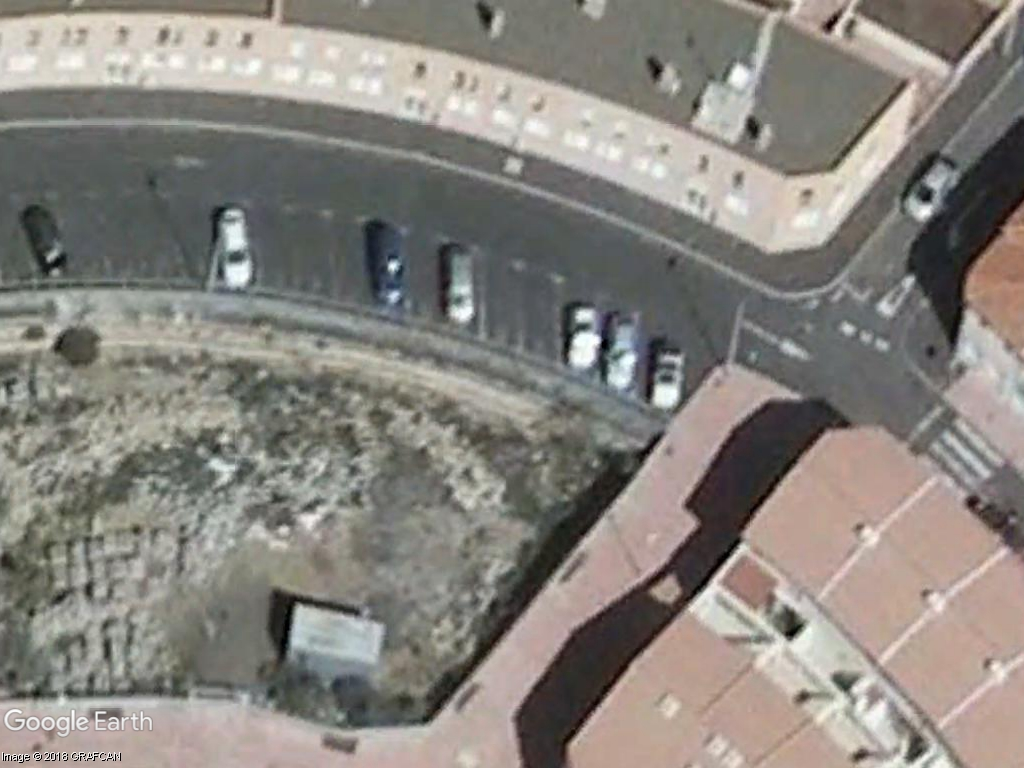car: (899, 143, 963, 228), (361, 210, 412, 312), (213, 202, 259, 297), (438, 233, 480, 327)
other: (604, 304, 643, 400), (561, 294, 603, 375), (646, 333, 685, 416)
